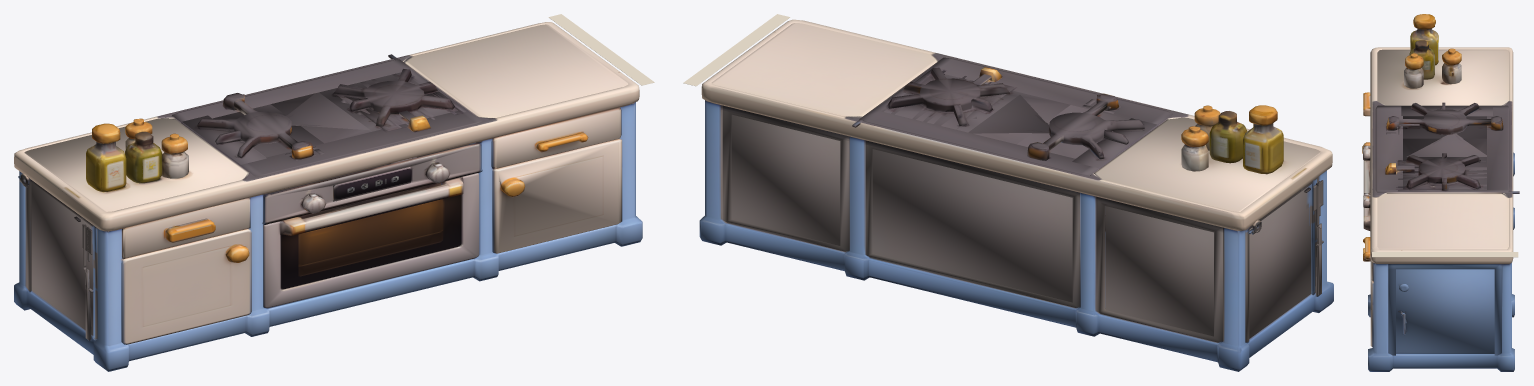
The model's file is stove.glb.
3 views of the same model, side by side, from view 1: azimuth 30°, elevation 25°; view 2: azimuth 150°, elevation 25°; view 3: azimuth 270°, elevation 25° (orthographic). The views are drawn at different scales.
Visible parts, largest first — view 1: 灶台静态总成, 转角接缝台面; view 2: 灶台静态总成, 转角接缝台面; view 3: 灶台静态总成, 转角接缝台面.
Boxes of the visible parts, x1,y1,x2,y2 form: 灶台静态总成: (14,22,642,371); 转角接缝台面: (548,14,654,85); 灶台静态总成: (699,19,1333,371); 转角接缝台面: (683,14,790,86); 灶台静态总成: (1362,14,1519,371); 转角接缝台面: (1372,252,1518,257).
Bounding box in the file's own units: 3.34 × 1.22 × 1.05.
2 materials, 1 textured.
